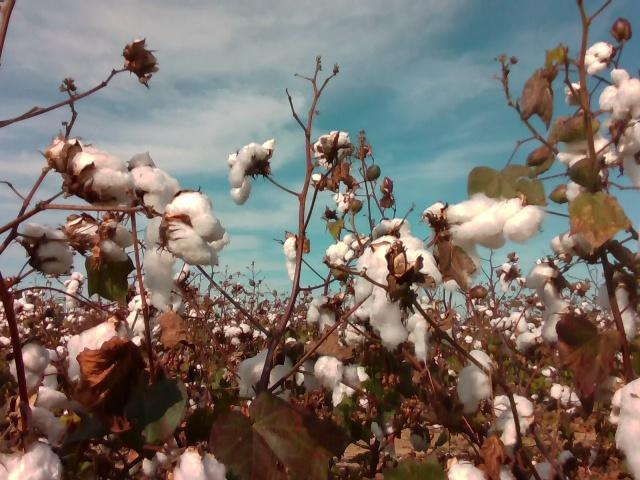cotton_ready: (357, 236, 442, 356), (132, 165, 184, 309), (444, 191, 543, 249), (423, 201, 484, 289), (166, 190, 232, 267), (67, 309, 133, 382), (525, 264, 582, 341), (68, 142, 134, 201), (227, 137, 276, 206), (238, 347, 296, 398), (612, 377, 640, 480), (313, 355, 368, 406), (23, 221, 73, 276), (490, 395, 536, 453), (597, 282, 640, 344), (0, 439, 64, 480), (457, 350, 494, 415), (30, 386, 73, 441), (612, 116, 640, 192), (558, 130, 616, 166), (601, 68, 640, 119), (167, 447, 227, 480), (8, 342, 48, 386), (120, 448, 171, 480), (447, 457, 516, 480), (312, 131, 353, 169), (324, 234, 366, 268), (531, 450, 575, 480), (102, 225, 134, 263), (49, 139, 83, 172), (307, 296, 338, 332), (571, 157, 603, 191), (66, 218, 99, 250), (583, 41, 612, 74), (373, 218, 412, 238), (285, 236, 301, 282), (129, 151, 156, 168)
